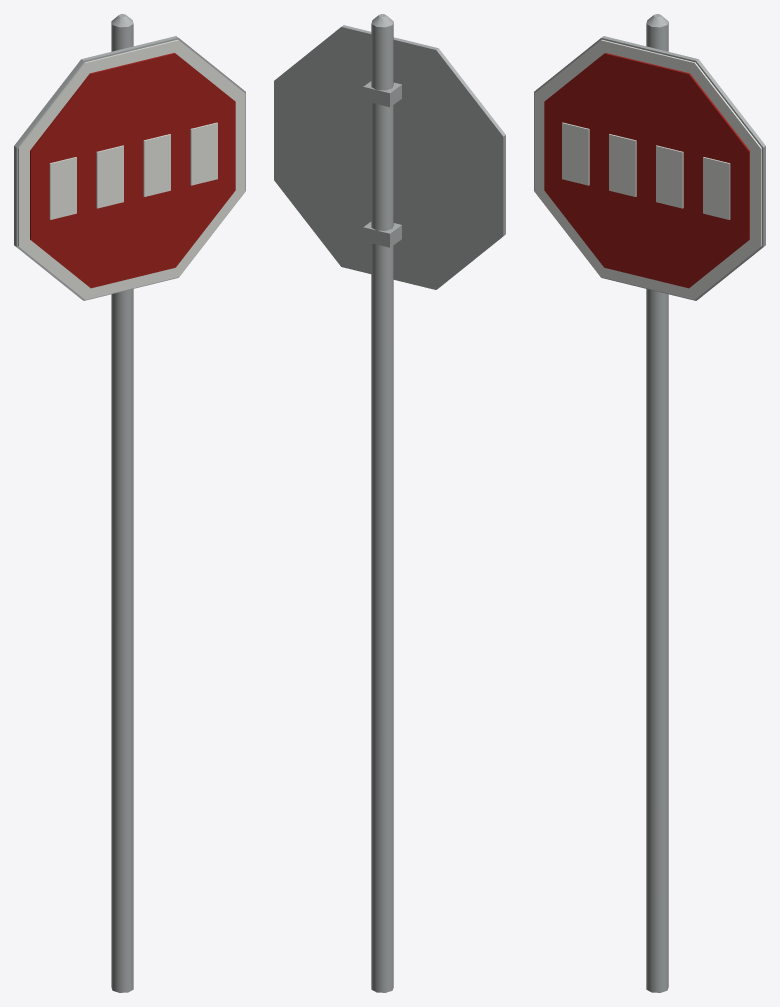
Rendered from stop_sign.glb.
The picture shows the model from 3 angles, left to right: view 1: azimuth 30°, elevation 25°; view 2: azimuth 150°, elevation 25°; view 3: azimuth 330°, elevation 25°; orthographic projection.
Parts seen in each view (by area): view 1: stop_sign; view 2: stop_sign; view 3: stop_sign.
Boxes of the visible parts, x1,y1,x2,y2 form: stop_sign: (14,14,245,992); stop_sign: (274,14,505,992); stop_sign: (534,14,765,992).
Bounding box in the file's own units: 0.6837 × 2.77 × 0.09.
Materials: 1 (1 with a texture image).
